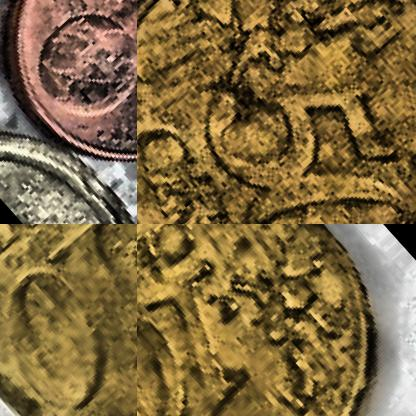coin: (137, 0, 415, 223), (137, 224, 415, 415), (0, 0, 136, 216), (0, 224, 136, 415)
